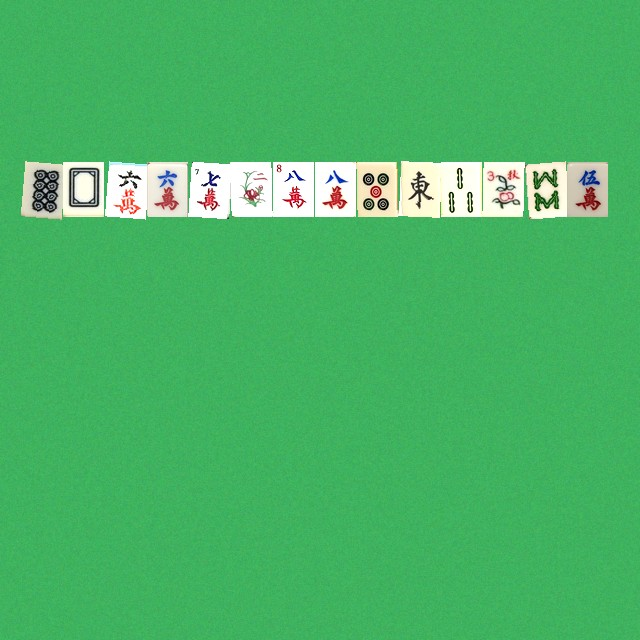tile: (20, 161, 61, 216), (62, 161, 103, 216), (104, 161, 145, 216), (146, 161, 187, 216), (188, 161, 229, 216), (230, 161, 271, 216), (272, 161, 313, 216), (314, 161, 355, 216), (356, 161, 397, 216), (398, 161, 439, 216), (440, 161, 481, 216), (482, 161, 523, 216), (524, 161, 565, 216), (566, 161, 607, 216)
